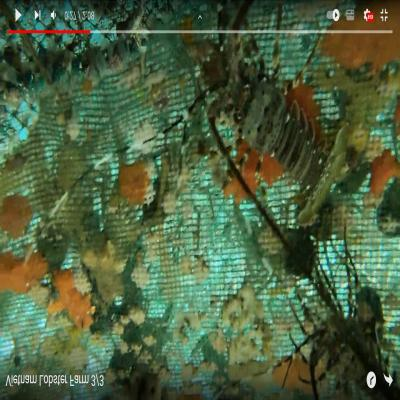lobster: (208, 59, 334, 189), (304, 286, 381, 394)
